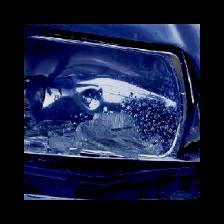head_lamp: (39, 98, 158, 170)
